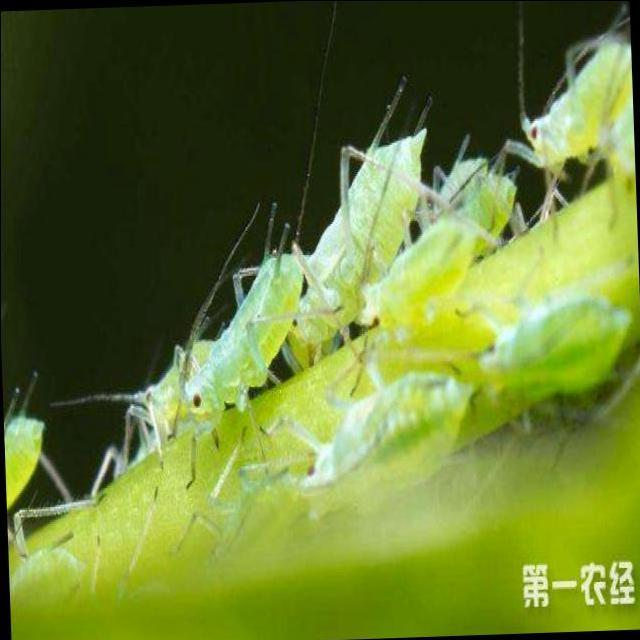aphid: (258, 125, 456, 393), (156, 245, 324, 489)
